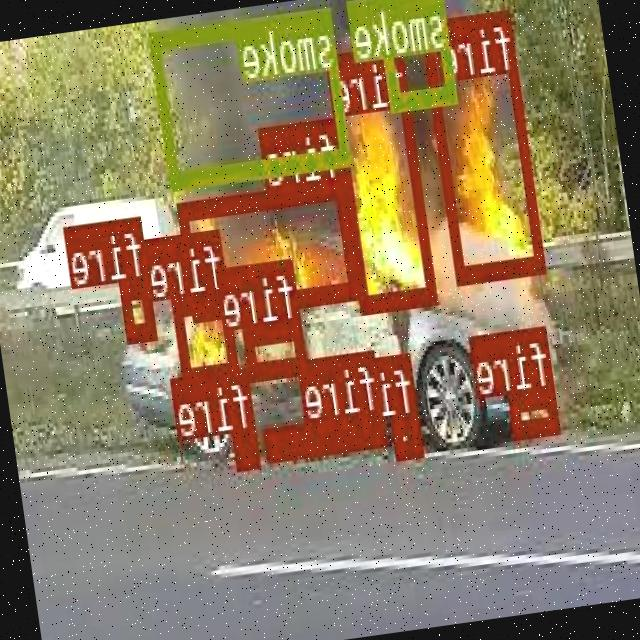fire: (422, 9, 548, 281), (328, 43, 439, 310), (179, 180, 361, 316), (173, 288, 240, 382), (264, 408, 388, 458), (245, 318, 310, 377), (510, 384, 562, 436), (122, 276, 160, 340), (392, 413, 425, 457), (234, 428, 262, 466)
smoke: (150, 5, 352, 188), (376, 0, 457, 106)
